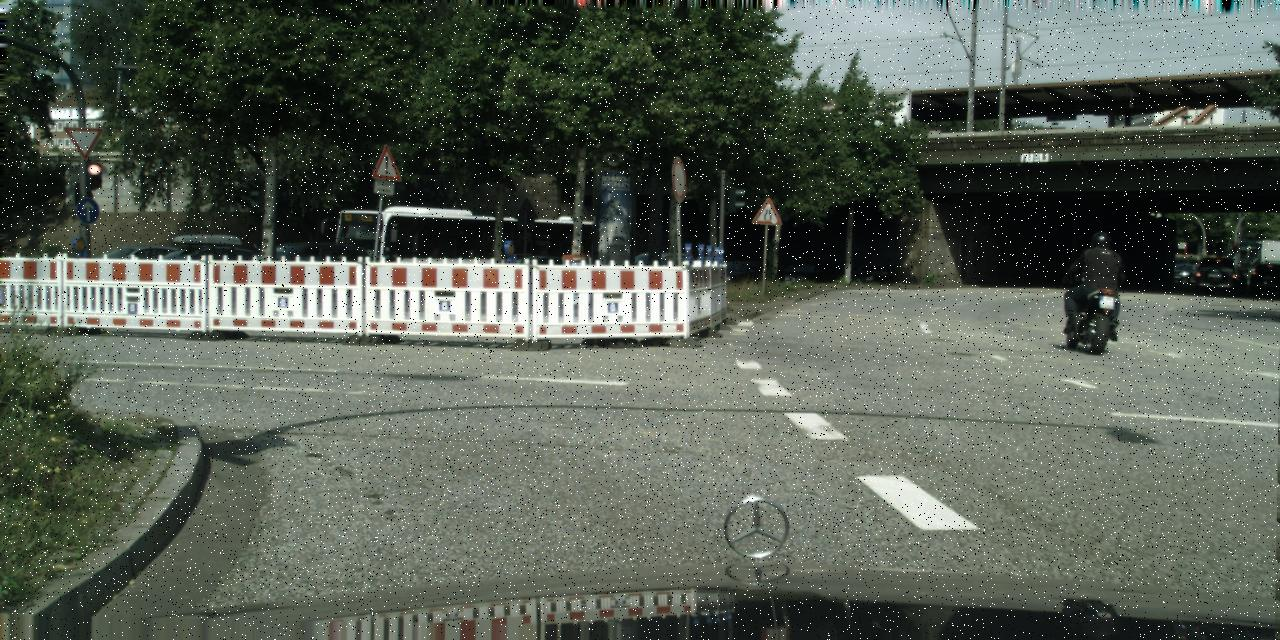ped: (1075, 231, 1117, 336)
